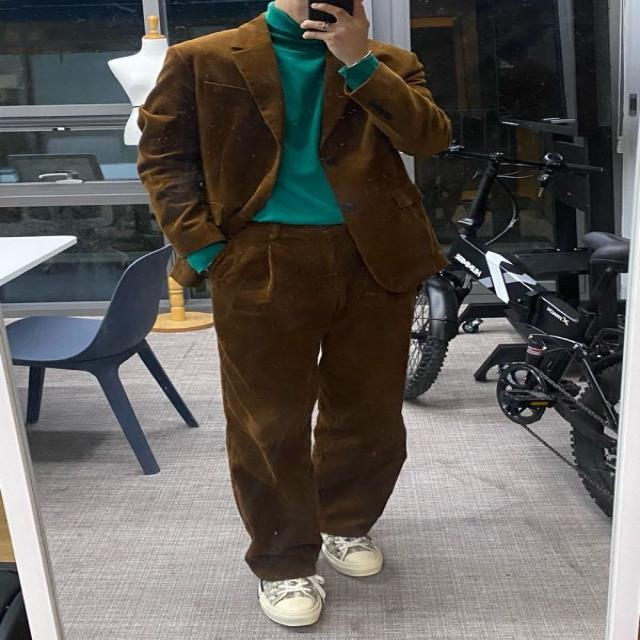blazer: (137, 11, 451, 295)
cottonpants: (209, 220, 413, 576)
